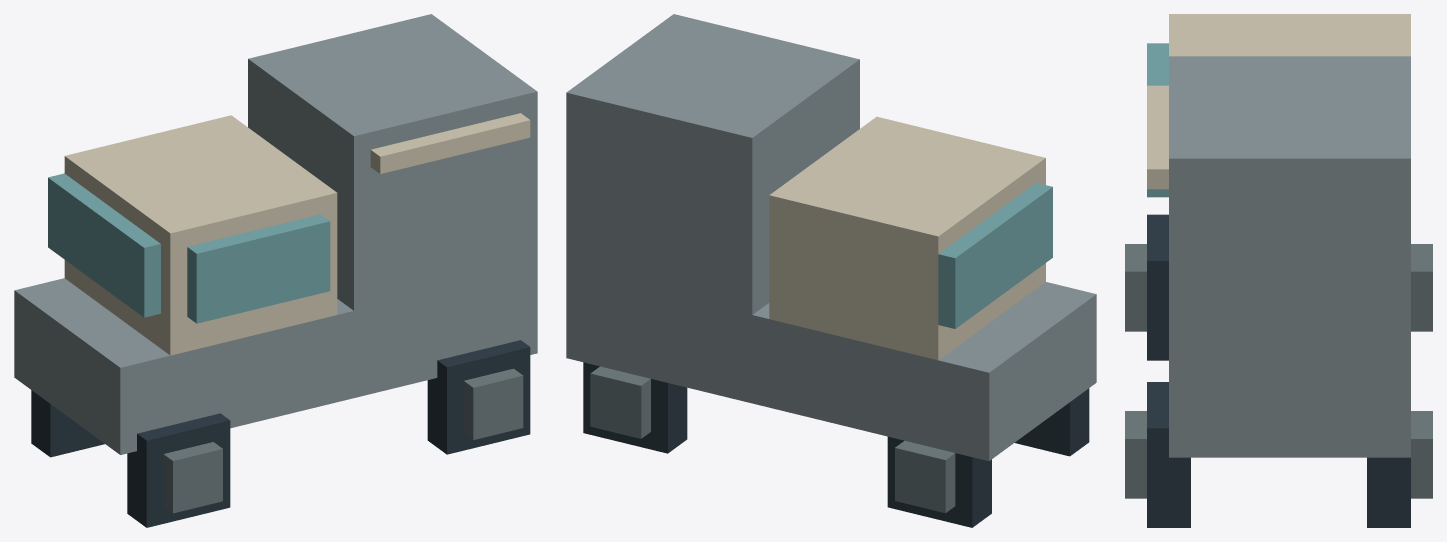
The model's file is news-13.glb.
3 views of the same model, side by side, from view 1: azimuth 30°, elevation 25°; view 2: azimuth 150°, elevation 25°; view 3: azimuth 270°, elevation 25° (orthographic). The views are drawn at different scales.
Parts seen in each view (by area): view 1: News van; view 2: News van; view 3: News van.
Part boxes in pixels (box(x1,y1,x2,y2)): News van: box(14, 14, 537, 527); News van: box(566, 14, 1096, 527); News van: box(1125, 14, 1432, 527).
Bounding box in the file's own units: 2 × 1.52 × 1.12.
